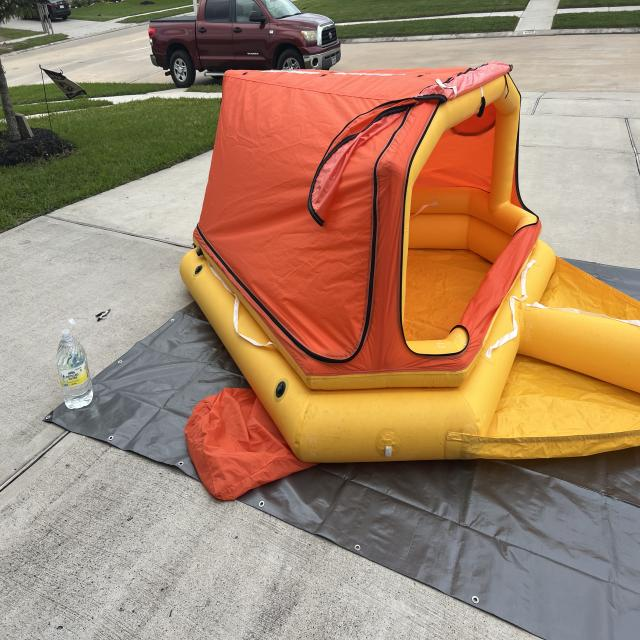Multi-person_life_raft: (178, 59, 640, 502)
